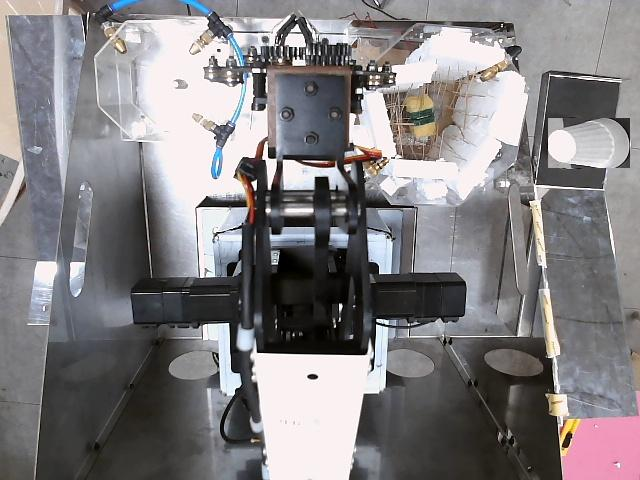cup: (548, 118, 630, 168)
